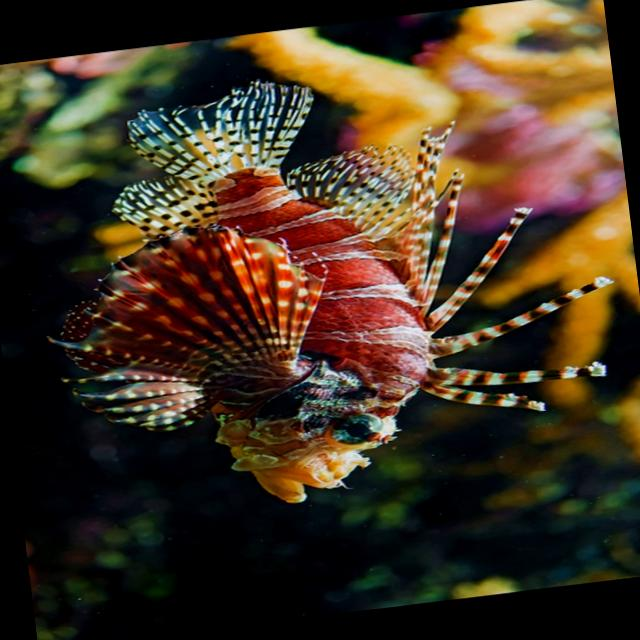Aslan Baligi: (16, 36, 638, 532)
